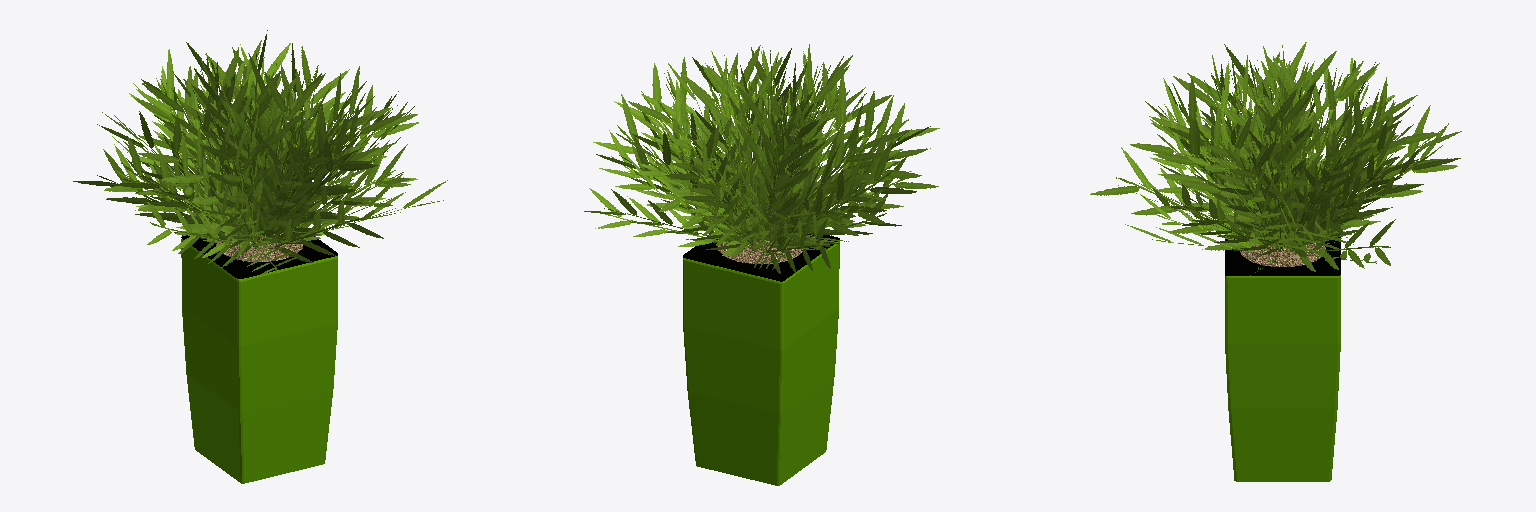
3 views of the same model, side by side, from view 1: azimuth 30°, elevation 25°; view 2: azimuth 150°, elevation 25°; view 3: azimuth 270°, elevation 25° (orthographic).
Bounding box in the file's own units: 0.202 × 0.2391 × 0.2067.
4 materials, 3 textured.